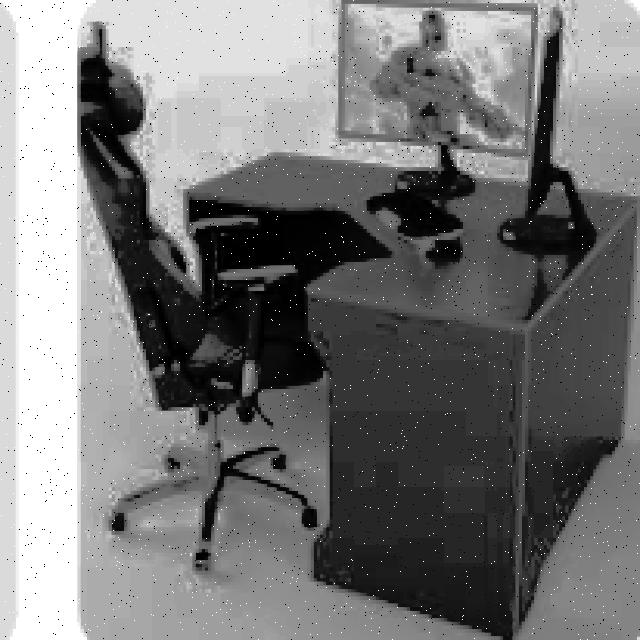book: (75, 18, 320, 571)
table: (183, 149, 637, 640)
